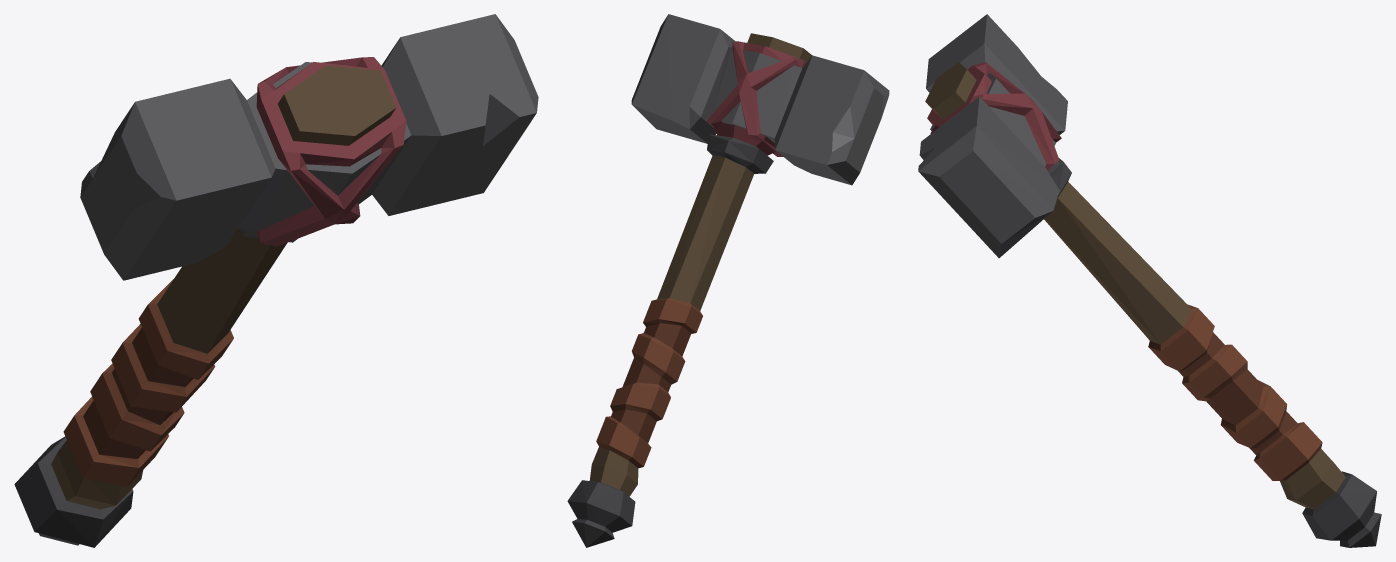
File: vk-hammer-01.glb
3 renders of one model, left to right at view 1: azimuth 30°, elevation 25°; view 2: azimuth 150°, elevation 25°; view 3: azimuth 270°, elevation 25°, orthographic. The views are drawn at different scales.
Visible parts, largest first — view 1: vk-hammer-01; view 2: vk-hammer-01; view 3: vk-hammer-01.
Boxes of the visible parts, bbox=[...] form: vk-hammer-01: bbox=[14, 14, 538, 547]; vk-hammer-01: bbox=[567, 14, 889, 547]; vk-hammer-01: bbox=[918, 14, 1381, 547].
Size of the model in its own units: 0.348 by 0.5879 by 0.5256.
Materials: 1 (1 with a texture image).
